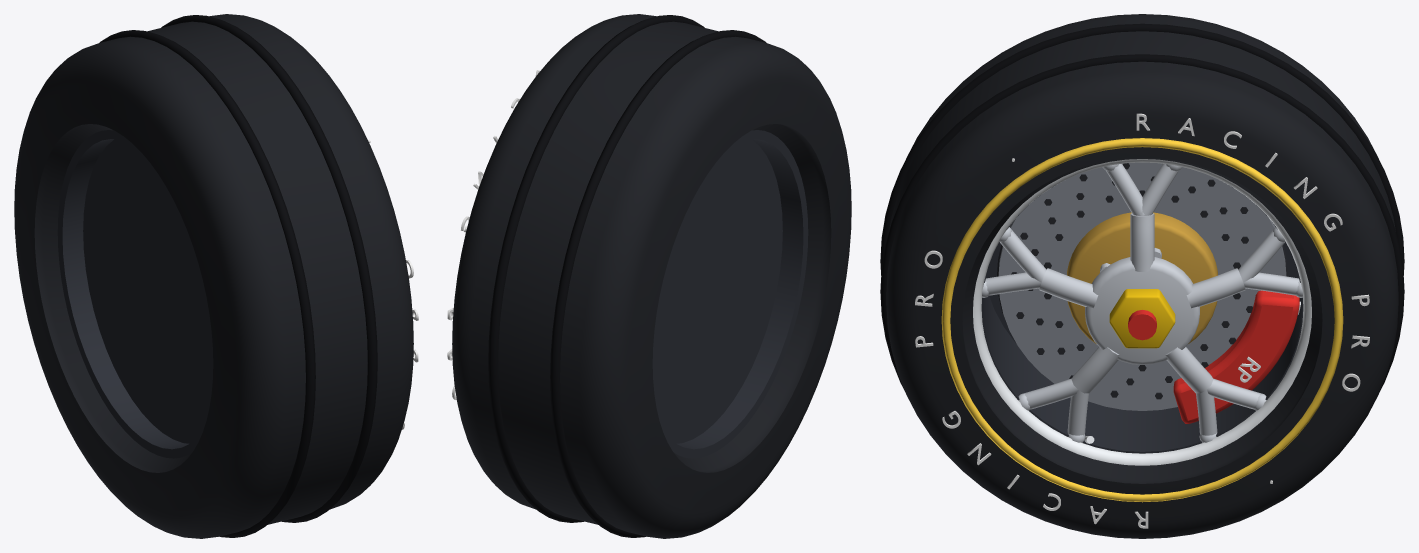
The model's file is wheel.glb.
The picture shows the model from 3 angles, left to right: view 1: azimuth 30°, elevation 25°; view 2: azimuth 150°, elevation 25°; view 3: azimuth 270°, elevation 25°; orthographic projection.
Parts seen in each view (by area): view 1: Wheel; view 2: Wheel; view 3: Wheel, Caliper.
Boxes of the visible parts, <box> form: Wheel: <box>14,14,418,538</box>; Wheel: <box>447,14,851,538</box>; Wheel: <box>880,14,1404,538</box>; Caliper: <box>1173,290,1300,423</box>.
Size of the model in its own units: 0.281 by 0.655 by 0.655.
